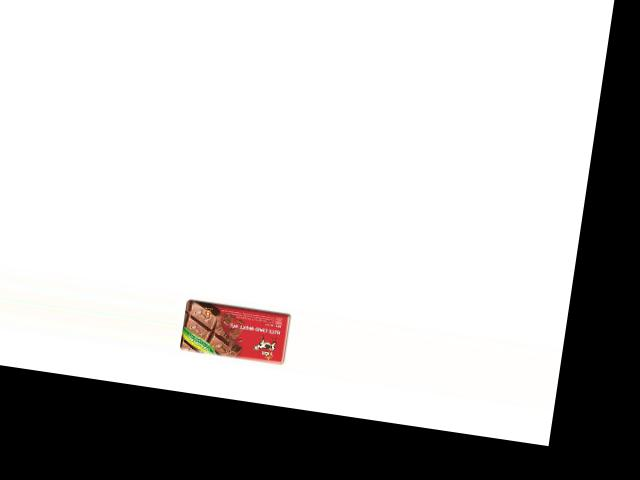chocolate: (178, 296, 293, 366)
